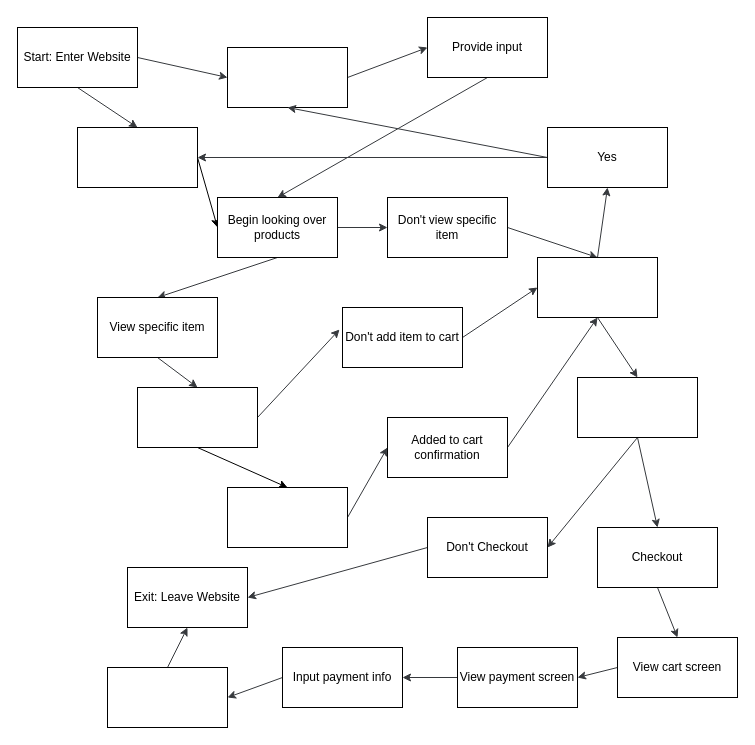
The diagram is 755 pixels wide and 745 high, and some of its shapes have lost their labels. The centre of each missing label's shape, as x and y in pixels:
Add item to cart: point (287, 517)
Continue Shopping?: point (597, 287)
Explore products: point (137, 157)
No: point (637, 407)
Order confirmation screen/ receive email confirmation: point (167, 697)
Products webpage will open: point (197, 417)
Search for a product: point (287, 77)
